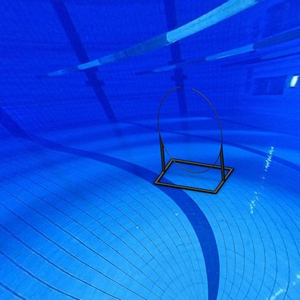circle: (153, 85, 236, 197)
